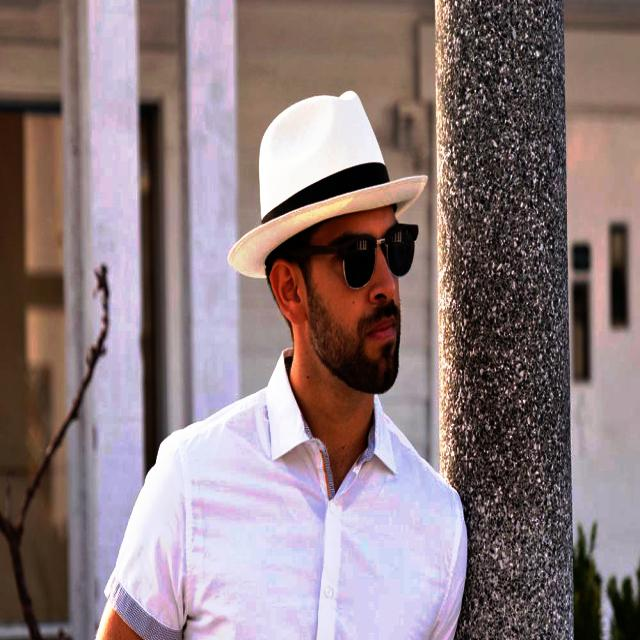KACAMATA: (282, 220, 422, 284)
TOPI: (224, 85, 432, 287)
